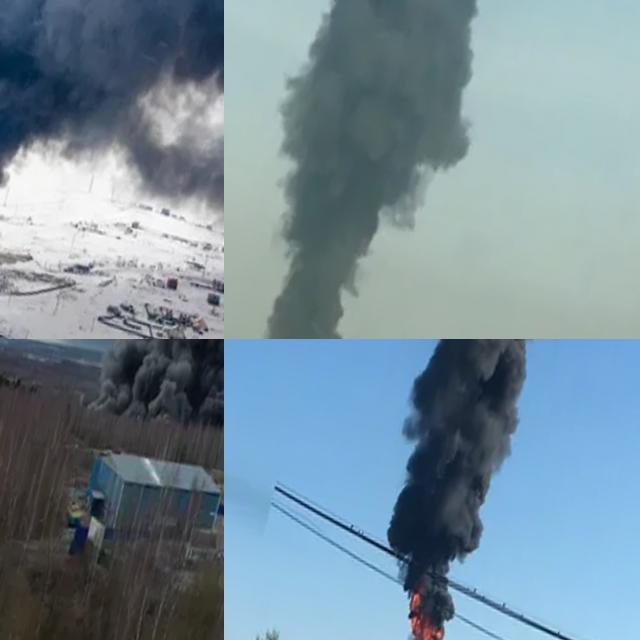smoke: (224, 0, 511, 339), (320, 339, 588, 640), (0, 0, 224, 339), (0, 339, 224, 447)
